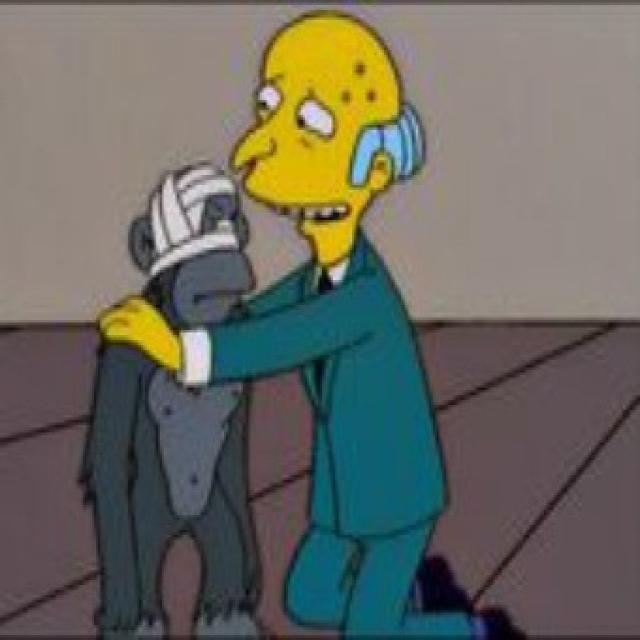Charles Montgomery Burns: (229, 14, 430, 256)
